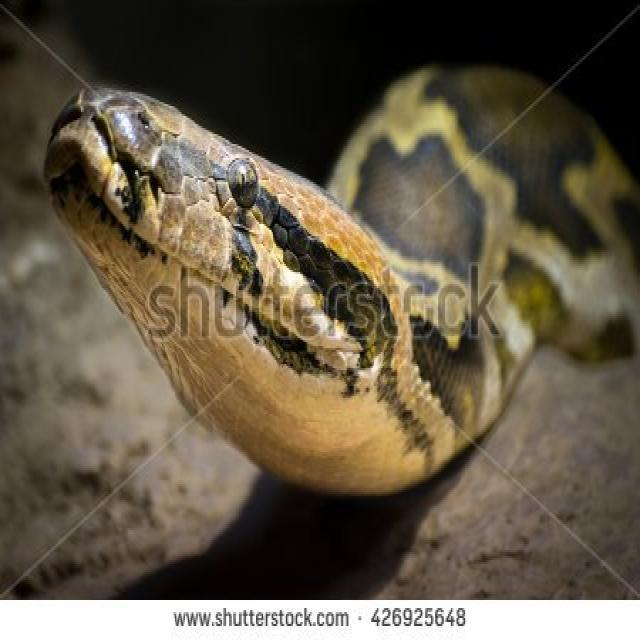Snake: (0, 0, 639, 502)
